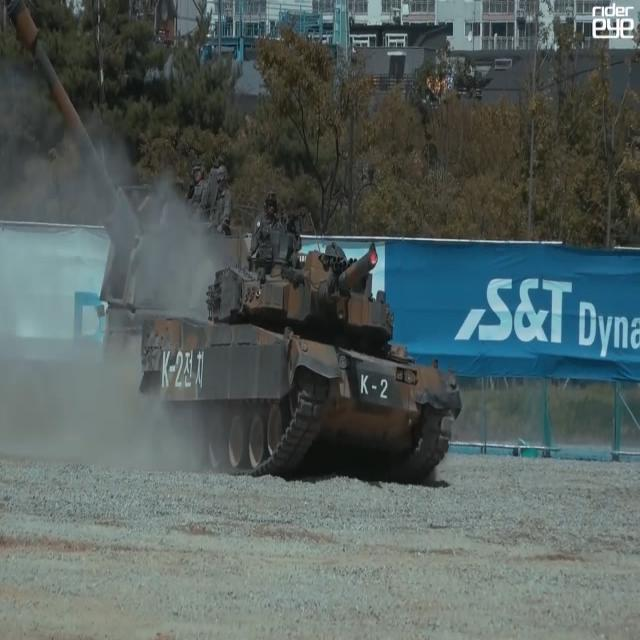korea tank: (137, 190, 461, 478)
